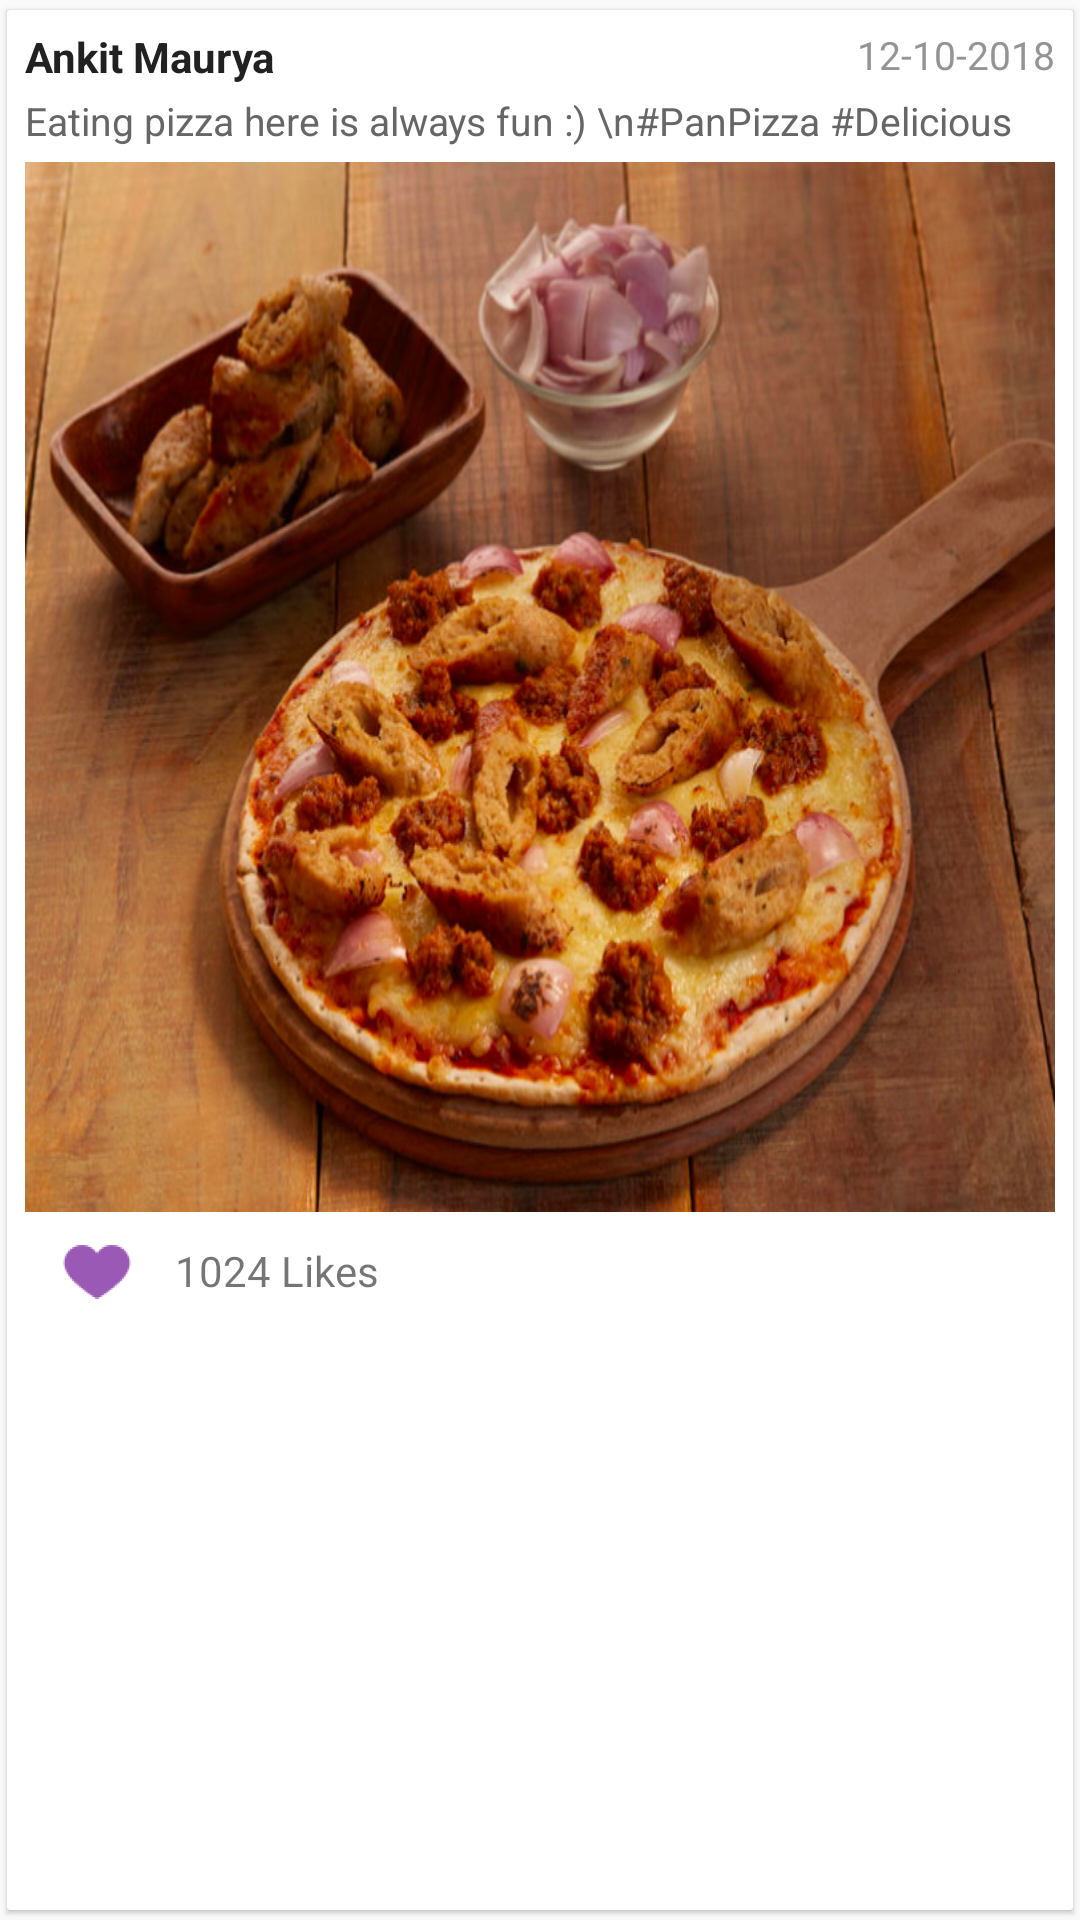

Where to tap for icons on this 1080 x 1920 app screen, as (x=x, y=y):
love feed: (x=97, y=1272)
